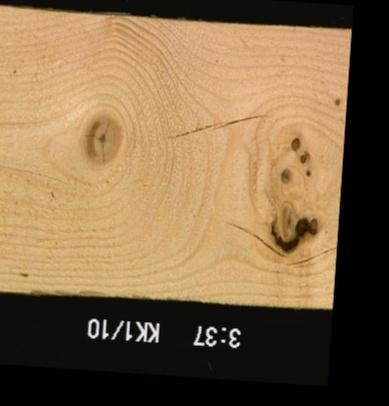dry_knot: (298, 151, 308, 164)
small_knot: (303, 168, 311, 178), (332, 97, 340, 107)
sound_knot: (83, 112, 122, 164), (279, 167, 290, 185), (288, 136, 300, 152)
split: (164, 110, 270, 143), (220, 222, 286, 256), (284, 243, 335, 268)
